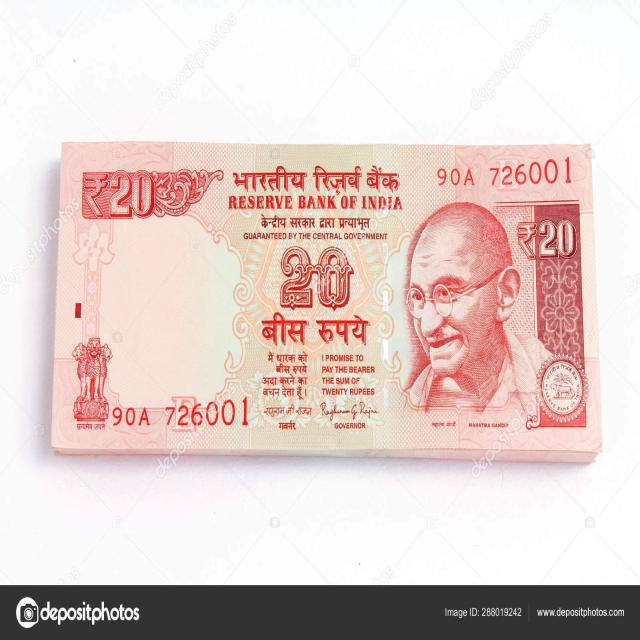20IndianRupees: (60, 145, 600, 455)
